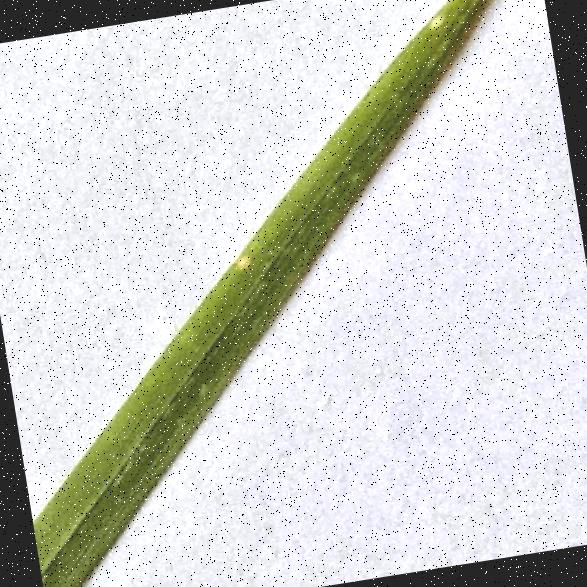Leaf_smut: (224, 236, 263, 280)
